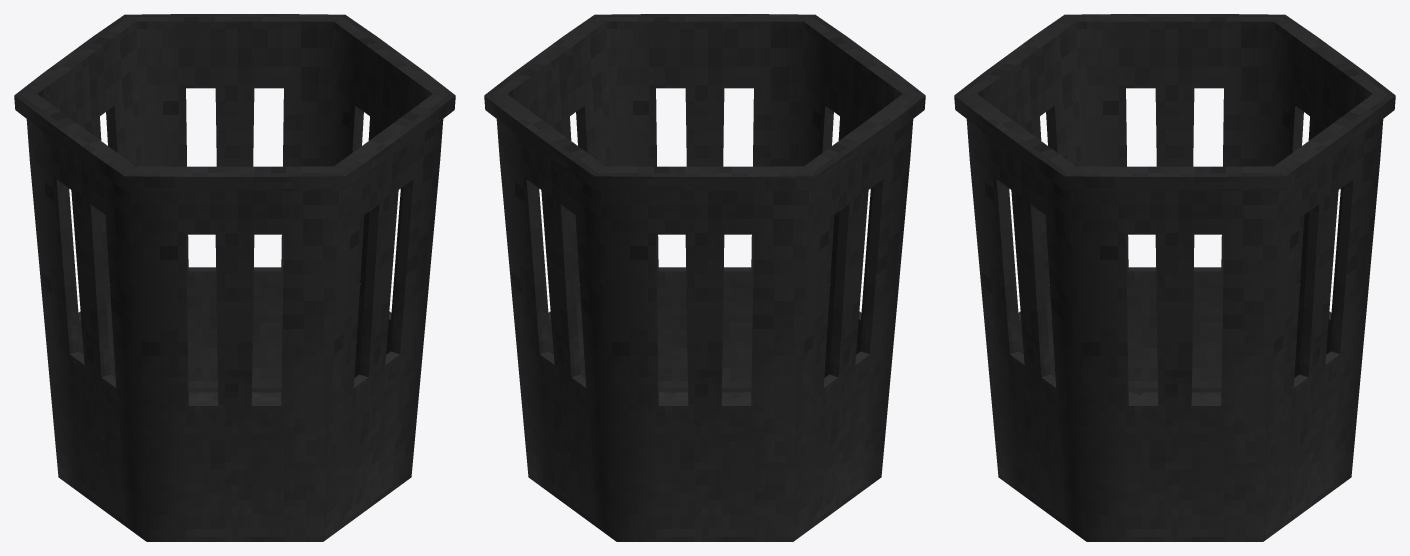
The model's file is trash_bin.fbx.
The picture shows the model from 3 angles, left to right: view 1: azimuth 30°, elevation 25°; view 2: azimuth 150°, elevation 25°; view 3: azimuth 270°, elevation 25°; orthographic projection.
Parts seen in each view (by area): view 1: trash_bin; view 2: trash_bin; view 3: trash_bin.
Part boxes in pixels (x1,y1,x2,y2): trash_bin: (14, 14, 455, 541); trash_bin: (484, 14, 925, 541); trash_bin: (954, 14, 1395, 541).
Bounding box in the file's own units: 29.61 × 32.51 × 33.94.
Materials: 1 (1 with a texture image).
